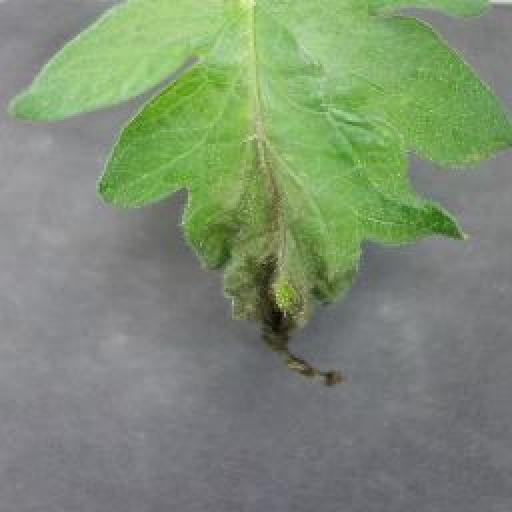Late Blight: (5, 0, 512, 391)
